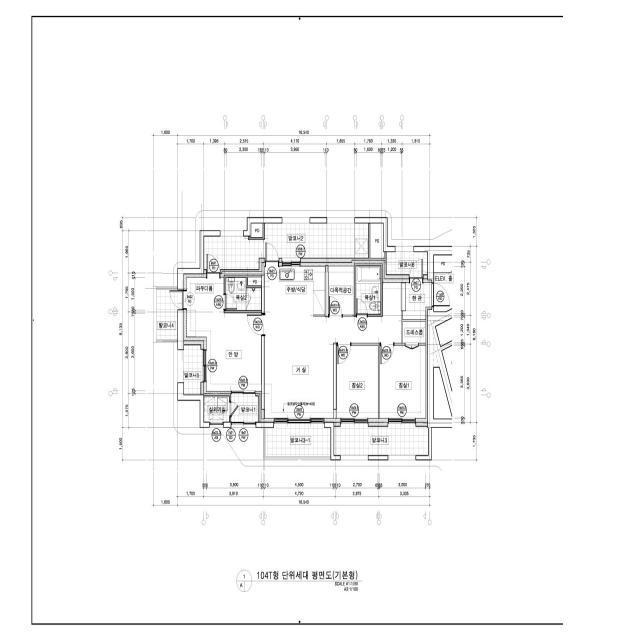space_balconi: (204, 223, 368, 272), (334, 423, 428, 455), (266, 424, 331, 456), (386, 252, 427, 277), (184, 345, 203, 395), (231, 394, 258, 422)
space_bedroom: (184, 313, 262, 394), (380, 346, 428, 422), (337, 345, 378, 422)
space_dressroom: (184, 273, 224, 313), (403, 322, 428, 343)
space_elevator_hall: (434, 273, 452, 311)
space_front: (401, 279, 432, 320)
space_kitchen: (262, 262, 325, 315)
space_living_room: (265, 279, 401, 423)
space_multipurpose_space: (328, 260, 354, 315)
space_other: (370, 223, 385, 258), (250, 223, 263, 237), (248, 277, 261, 285)
space_outdoor_room: (204, 396, 229, 422)
space_toilet: (356, 266, 381, 314), (226, 277, 261, 310)
